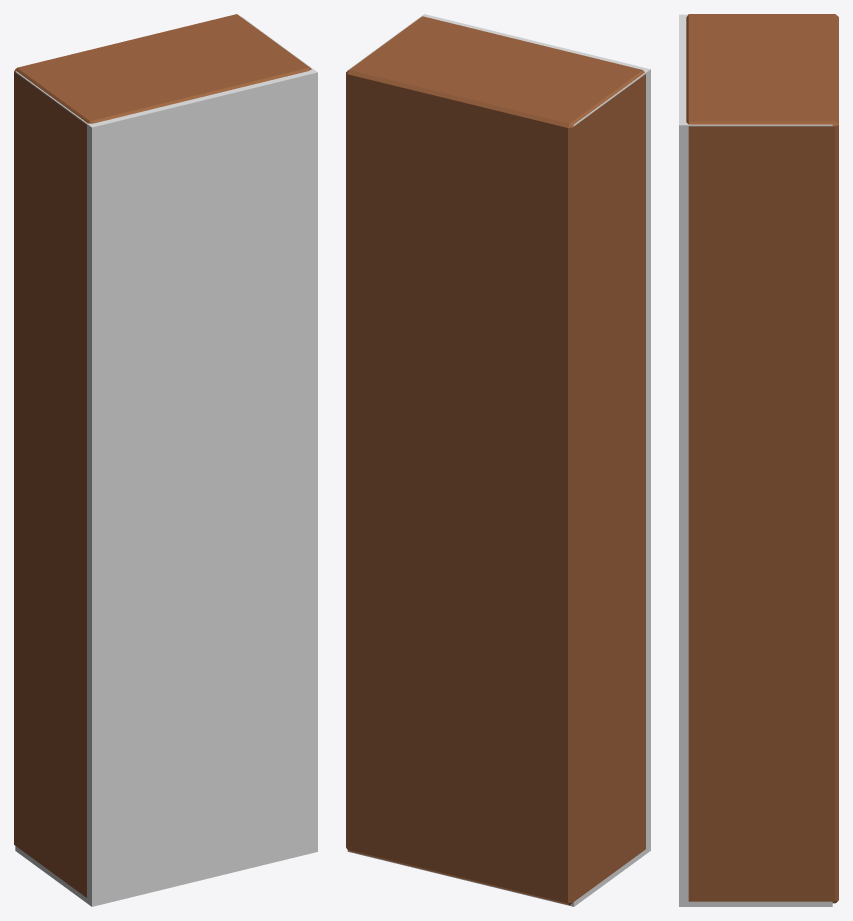
File: shelf-c.glb
3 renders of one model, left to right at view 1: azimuth 30°, elevation 25°; view 2: azimuth 150°, elevation 25°; view 3: azimuth 270°, elevation 25°, orthographic.
Parts seen in each view (by area): view 1: Shelf C_col, Shelf C; view 2: Shelf C, Shelf C_col; view 3: Shelf C, Shelf C_col.
Part boxes in pixels (x1,y1,x2,y2): Shelf C_col: (15, 16, 317, 906); Shelf C: (14, 14, 311, 897); Shelf C: (346, 16, 645, 904); Shelf C_col: (347, 14, 650, 906); Shelf C: (686, 14, 838, 903); Shelf C_col: (679, 14, 832, 906).
Bounding box in the file's own units: 3.26 × 10.79 × 1.99.
